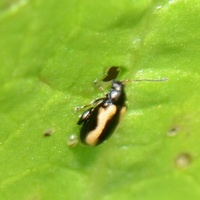insect: (75, 66, 166, 145)
